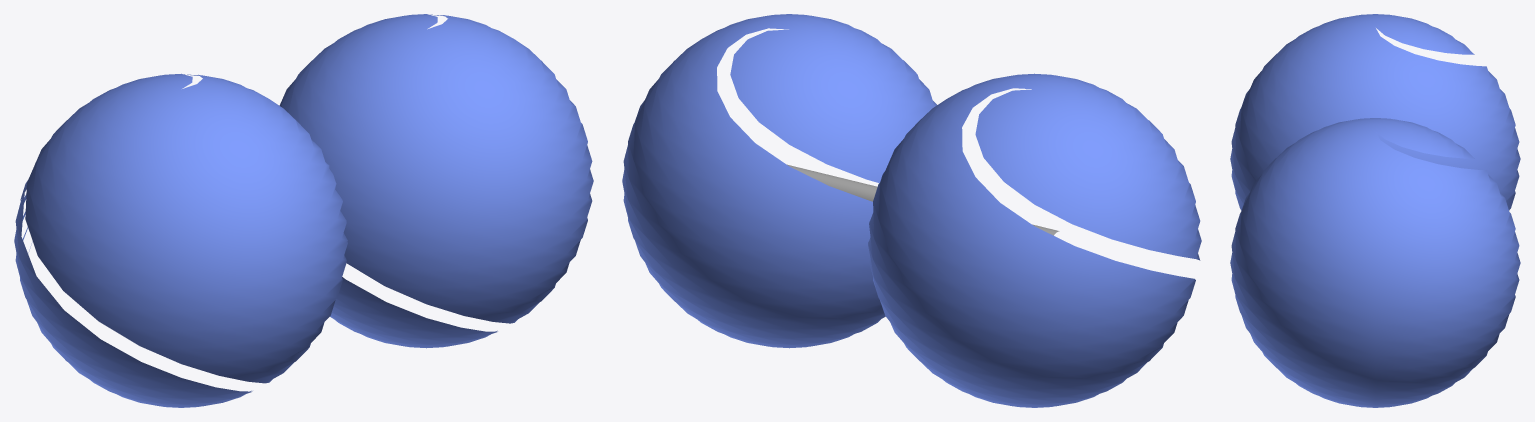
3 renders of one model, left to right at view 1: azimuth 30°, elevation 25°; view 2: azimuth 150°, elevation 25°; view 3: azimuth 270°, elevation 25°, orthographic. The views are drawn at different scales.
Bounding box in the file's own units: 2.4 × 1.29 × 1.3.
